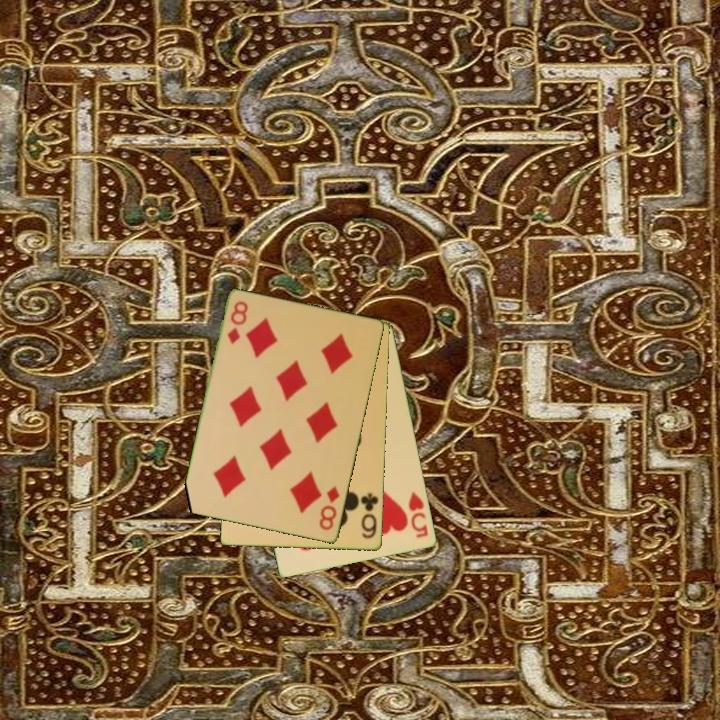5h: (405, 488, 431, 541)
6c: (358, 490, 381, 542)
8d: (316, 483, 343, 533), (224, 298, 250, 347)
